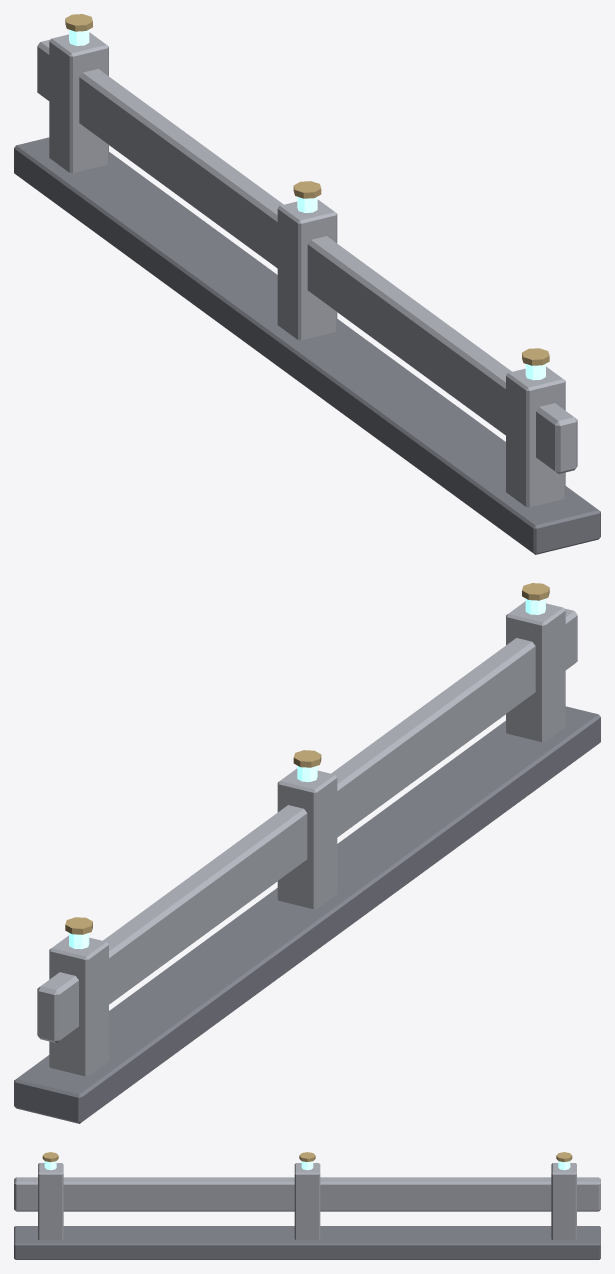
File: gearforge_road_barrier.glb
3 renders of one model, top to bottom at view 1: azimuth 30°, elevation 25°; view 2: azimuth 150°, elevation 25°; view 3: azimuth 270°, elevation 25°, orthographic. The views are drawn at different scales.
Visible parts, largest first — view 1: gearforge_road_barrier_lod0; view 2: gearforge_road_barrier_lod0; view 3: gearforge_road_barrier_lod0.
Boxes of the visible parts, x1,y1,x2,y2 form: gearforge_road_barrier_lod0: (14,14,600,554); gearforge_road_barrier_lod0: (14,583,600,1123); gearforge_road_barrier_lod0: (14,1152,600,1259).
Size of the model in its own units: 0.6 by 1.44 by 8.
